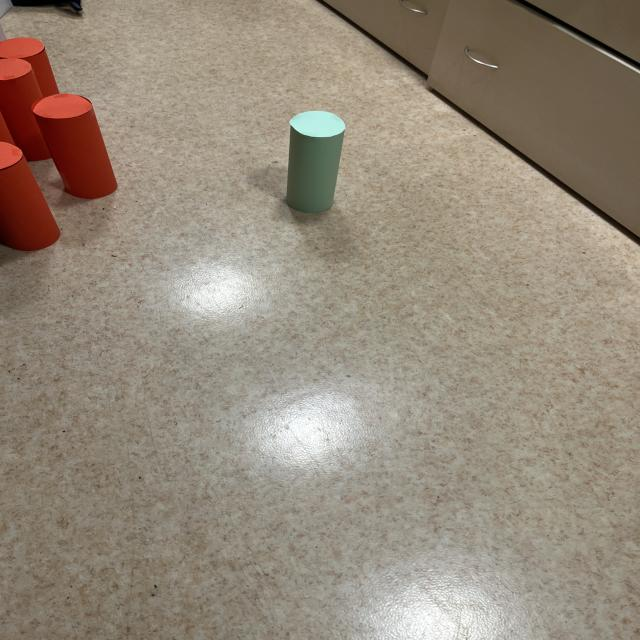meta: (286, 111, 345, 213)
